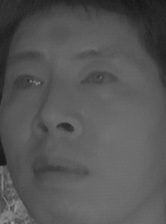eye: (80, 67, 119, 90), (10, 69, 46, 93)
mouth: (29, 149, 94, 191)
